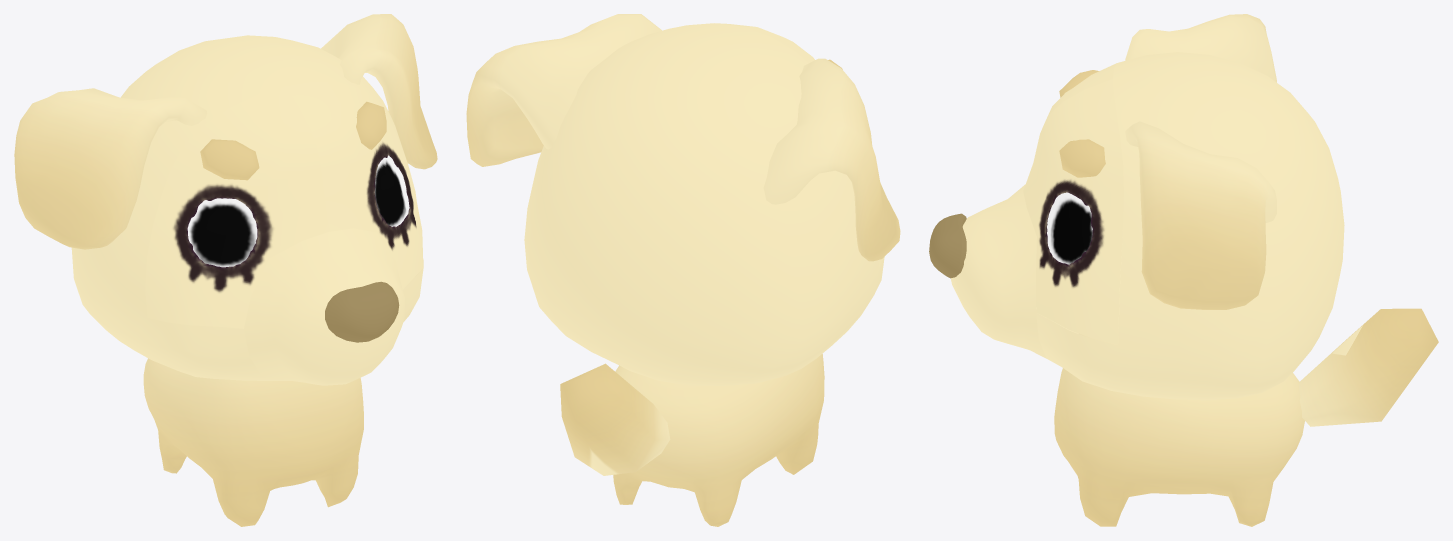
File: DoggieLIndaVer.fbx
The picture shows the model from 3 angles, left to right: view 1: azimuth 30°, elevation 25°; view 2: azimuth 150°, elevation 25°; view 3: azimuth 270°, elevation 25°; orthographic projection. The views are drawn at different scales.
Parts seen in each view (by area): view 1: Ear1, Head1, EyePatch_L__2_Default, Body, Mouse_5_NOMouse, EyePatch_R__2_Default, Pupil_L_default, Nose, EyeBrows, Pupil_R__default; view 2: Head1, Ear1, Body, Tail; view 3: Head1, Body, Ear1, EyePatch_R__2_Default, Tail, Mouse_5_NOMouse, Pupil_R__default, Nose, EyeBrows, EyePatch_L__2_Default.
Boxes of the visible parts, x1,y1,x2,y2 form: Ear1: (14,14,437,249); Head1: (71,35,423,380); EyePatch_L__2_Default: (145,86,329,328); Body: (143,358,363,526); Mouse_5_NOMouse: (244,228,404,385); EyePatch_R__2_Default: (285,82,423,289); Pupil_L_default: (187,198,257,267); Nose: (325,281,399,342); EyeBrows: (200,101,386,180); Pupil_R__default: (374,155,409,226); Head1: (524,23,884,385); Ear1: (466,14,900,261); Body: (613,354,824,526); Tail: (560,363,670,475); Head1: (1036,52,1344,400); Body: (1054,292,1304,526); Ear1: (1125,14,1276,309); EyePatch_R__2_Default: (1023,79,1123,344); Tail: (1298,308,1438,426); Mouse_5_NOMouse: (950,184,1046,358); Pupil_R__default: (1047,192,1092,264); Nose: (929,213,966,278); EyeBrows: (1059,70,1105,177); EyePatch_L__2_Default: (1040,63,1116,132).
Size of the model in its own units: 13.79 by 14.65 by 15.55.
